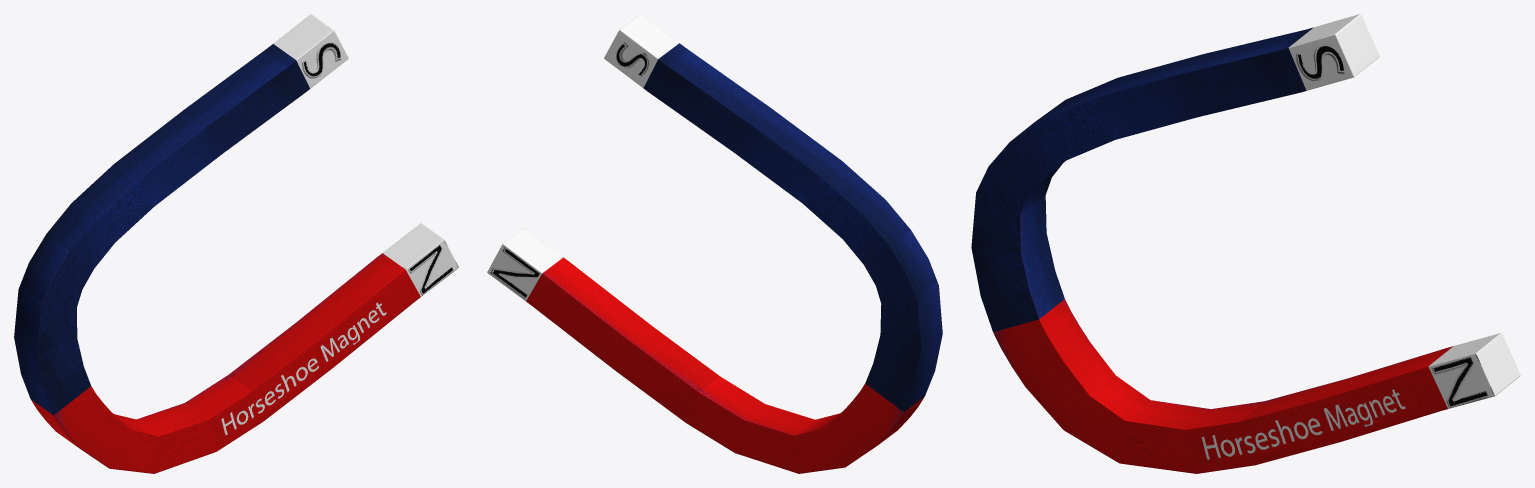
The model's file is magnet_13.12.fbx.
The picture shows the model from 3 angles, left to right: view 1: azimuth 30°, elevation 25°; view 2: azimuth 150°, elevation 25°; view 3: azimuth 330°, elevation 25°; orthographic projection. The views are drawn at different scales.
Parts seen in each view (by area): view 1: magnet_u_shape:polySurface1; view 2: magnet_u_shape:polySurface1; view 3: magnet_u_shape:polySurface1.
Boxes of the visible parts, x1,y1,x2,y2 form: magnet_u_shape:polySurface1: (14, 14, 458, 473); magnet_u_shape:polySurface1: (487, 14, 942, 473); magnet_u_shape:polySurface1: (971, 14, 1520, 473).
Size of the model in its own units: 6.17 by 5.5 by 0.7198.
Materials: 4 (4 with a texture image).
